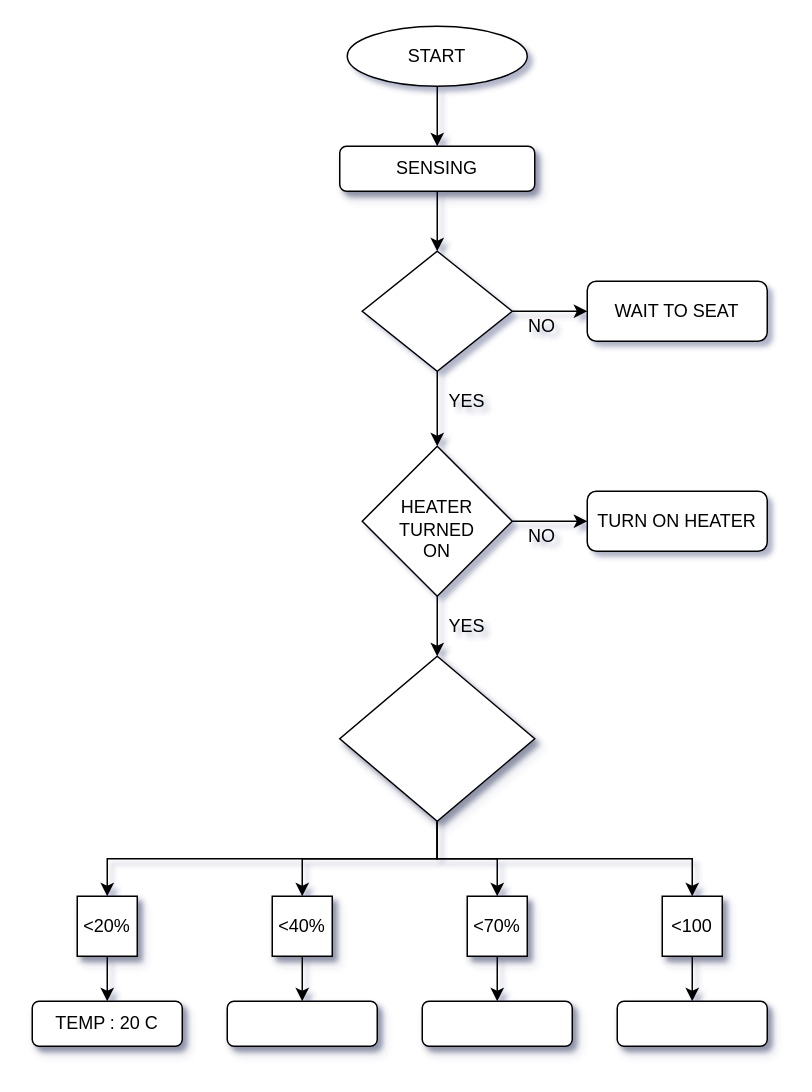
Some shapes in this 812 by 1092 pixel diagram are drawn without their labels. The centre of each missing label's shape, as x and y in pixels:
DRIVER SEATED: the point at 436,310
HEATER KNOB: the point at 438,740
TEMP : 25 C: the point at 303,1025
TEMP : 29 C: the point at 498,1025
TEMP : 33 C: the point at 693,1025
